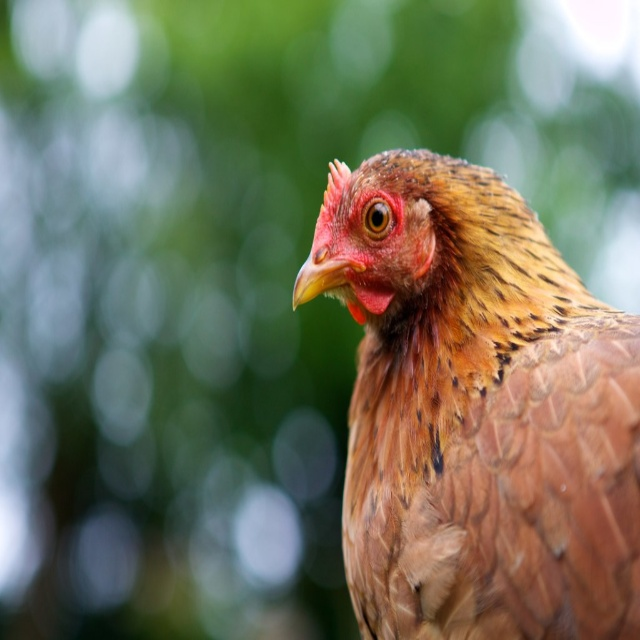Chicken: (287, 149, 640, 639)
